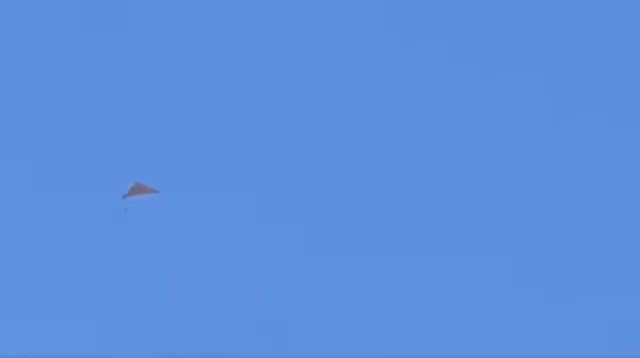shahed: (120, 180, 159, 200)
